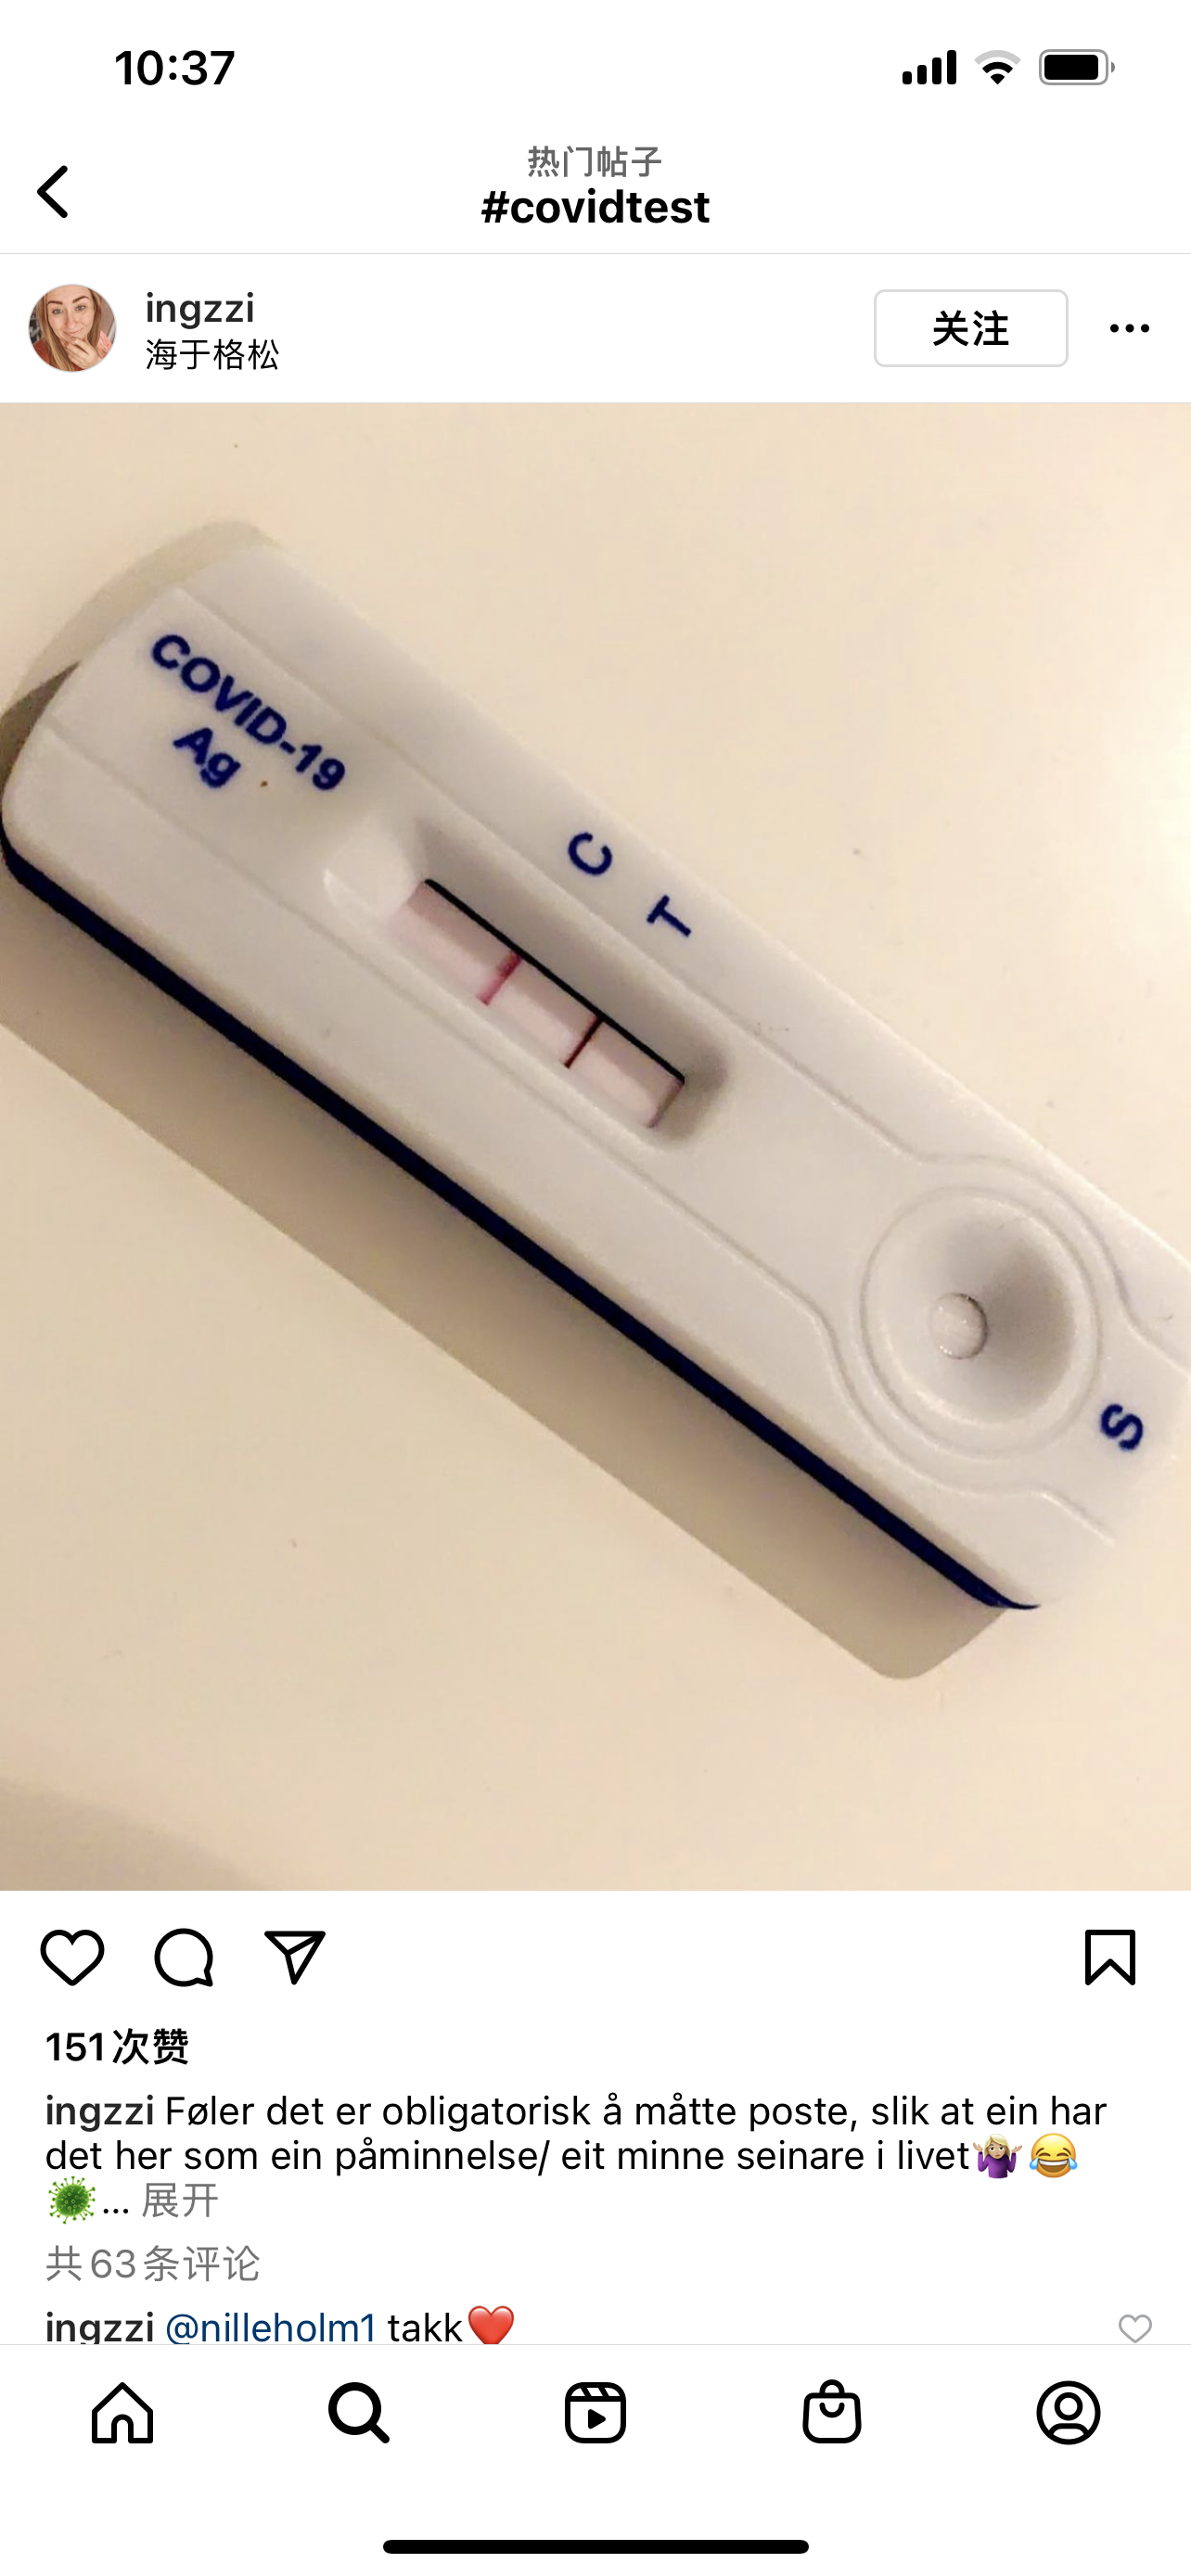positive: (343, 825, 715, 1142)
